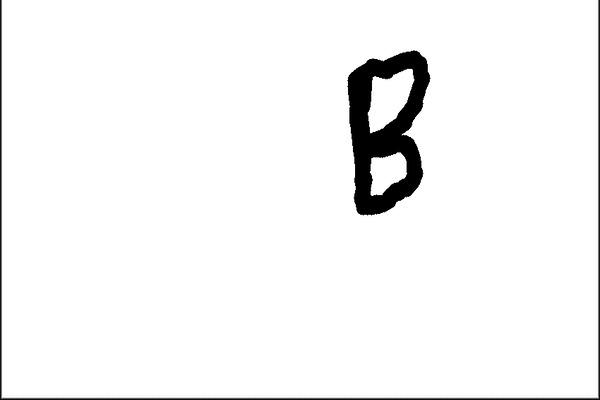B: (336, 43, 432, 218)
